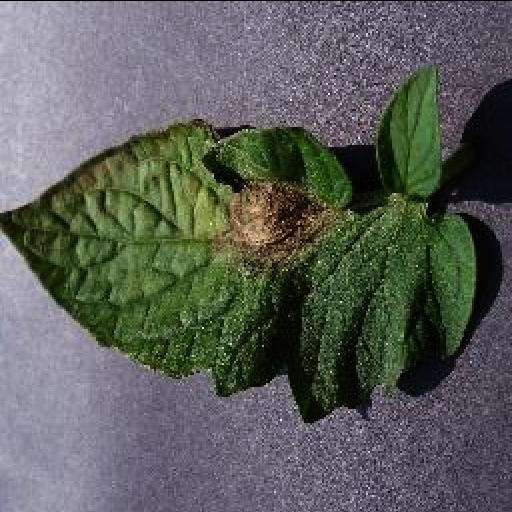disease_tomato: (0, 60, 476, 426)
